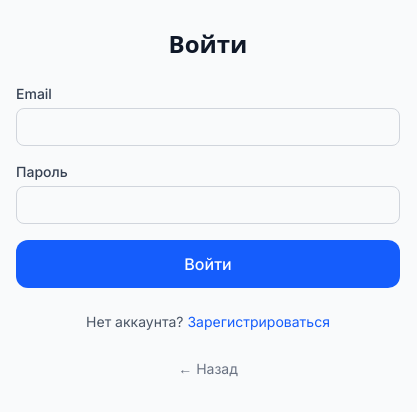
LoginScreen › shows Russian error message for wrong password
Type "test@test.com" into the field labelled "Email". click: point(208, 127)
box: [16,108,400,146]
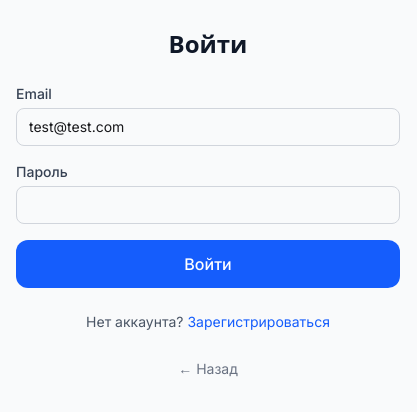
Type "wrong" into the password field labelled "Пароль". click: point(208, 205)
box: [16,186,400,224]
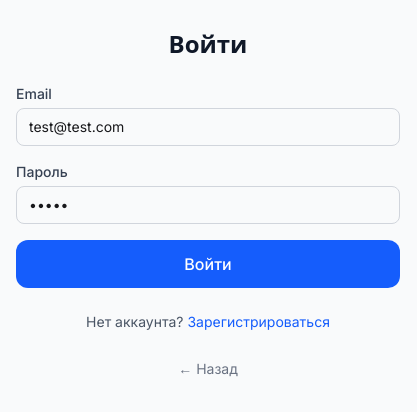
Click the button "Войти". click: point(208, 264)
box: [16,240,400,288]
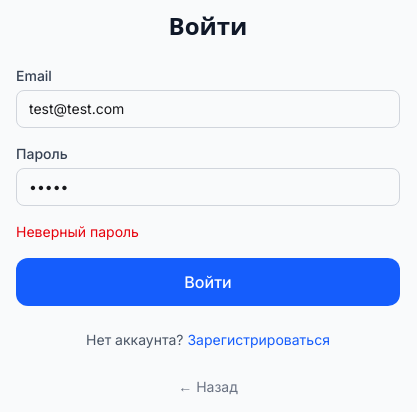
Expected: the text "Неверный пароль" is shown, [16,223,139,240]
